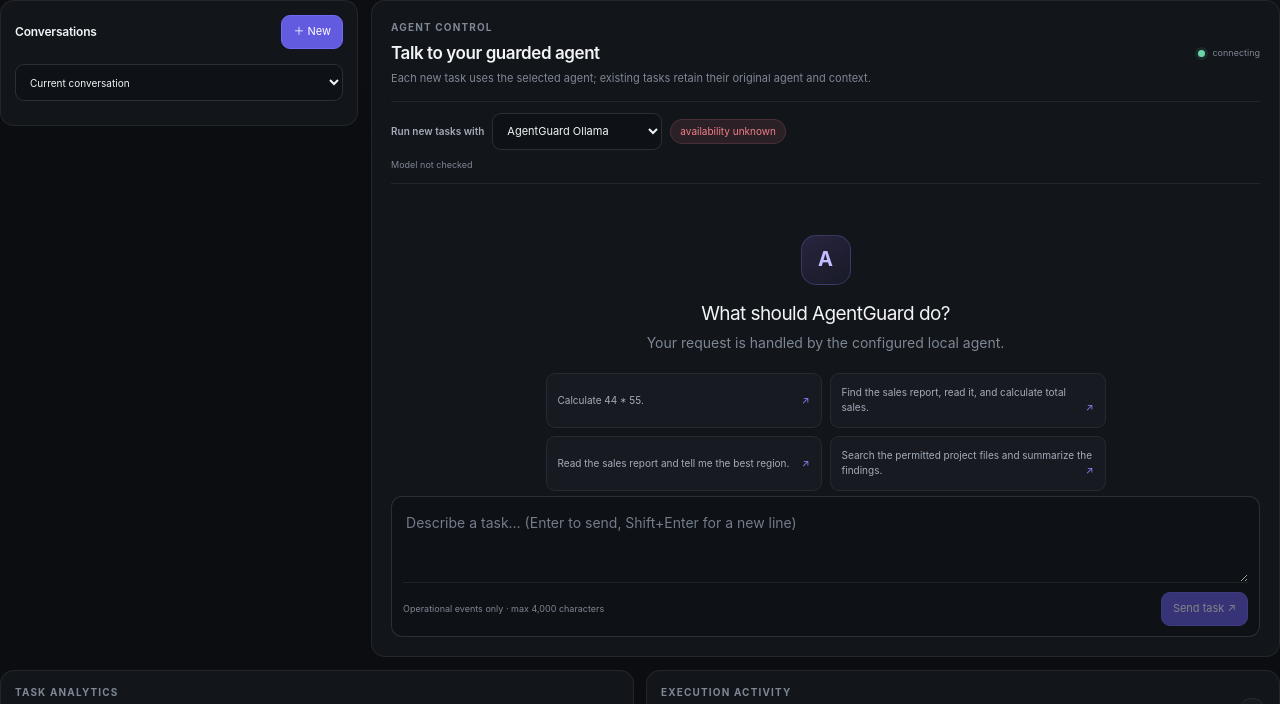
it: provider submission errors stay errors and do not show fabricated success
The width and height of the screenshot is (1280, 704).
Select "Microsoft AutoGen" in the dropdown labelled "Run new tasks with". click: (577, 131)
box: left=492, top=113, right=662, bottom=150
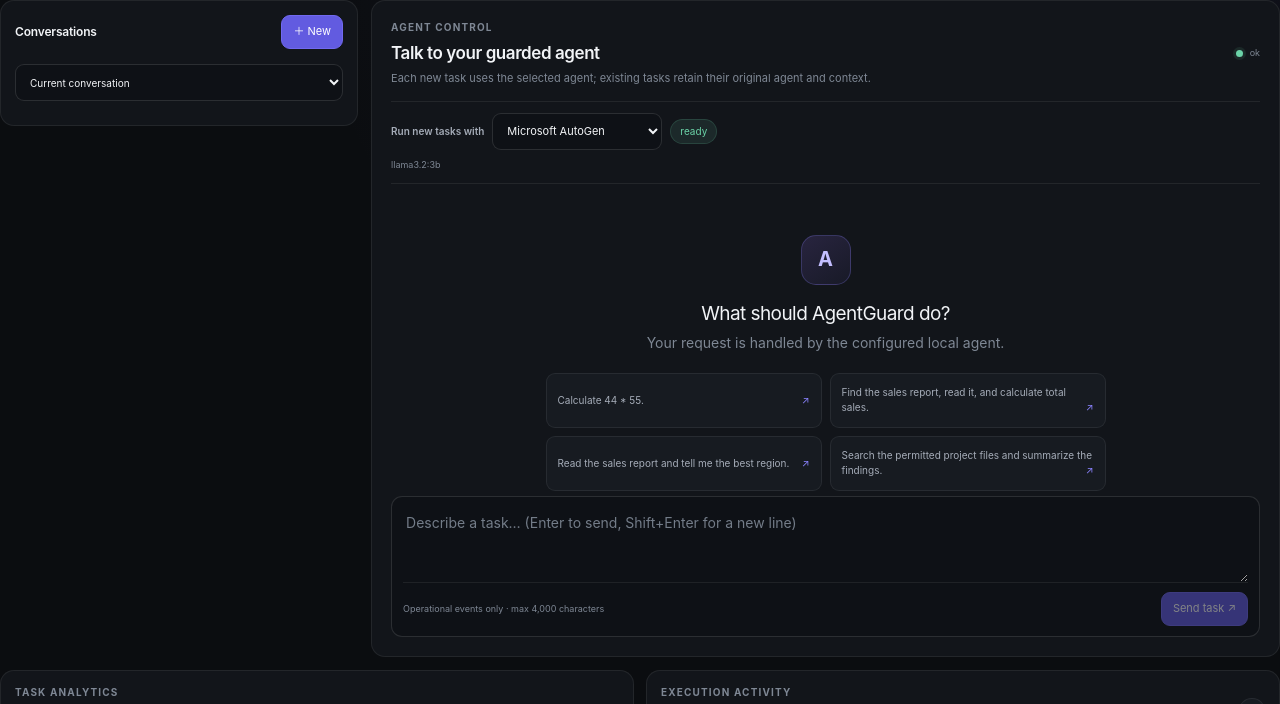
Click the button "Calculate 44 * 55. ↗". click: click(601, 400)
box: left=546, top=373, right=822, bottom=428
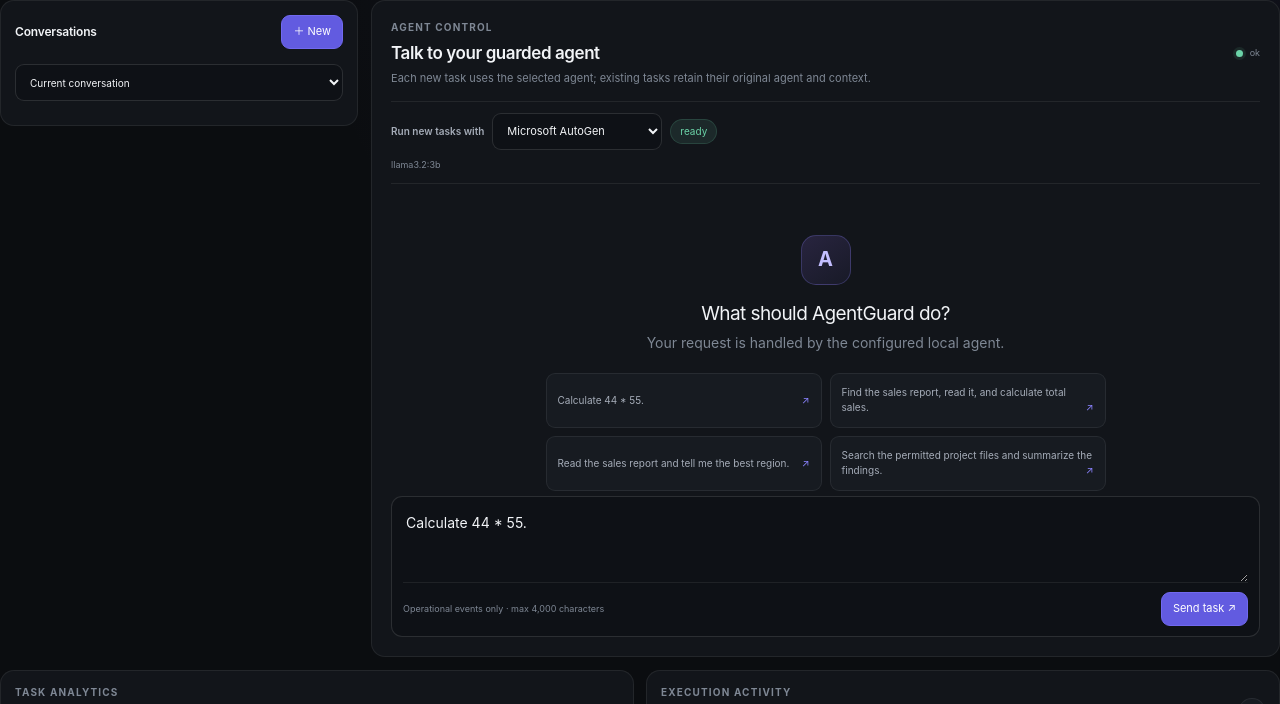
Click the button "Send task ↗". click: click(1204, 609)
box: left=1161, top=592, right=1248, bottom=626
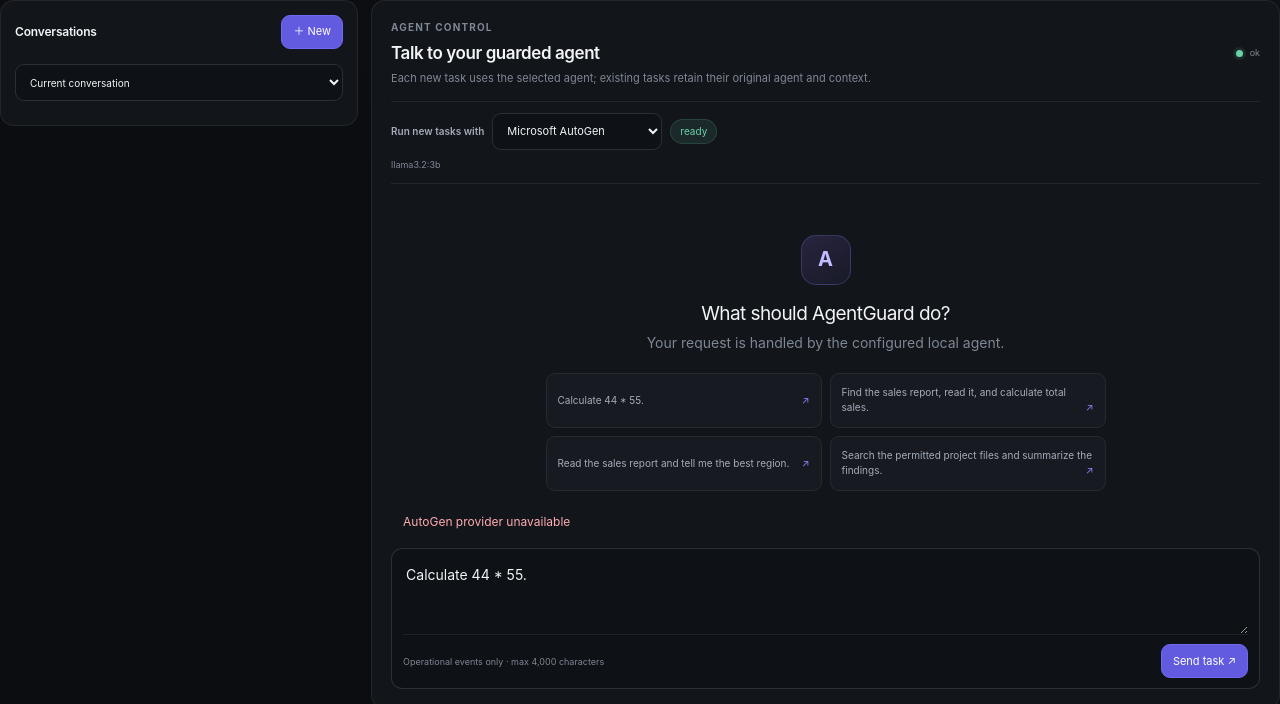
Expected: the message "AutoGen provider unavailable" is shown, left=403, top=514, right=570, bottom=529
